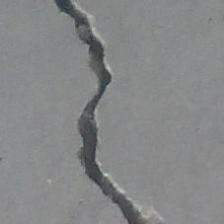Crack: (5, 1, 224, 224)
